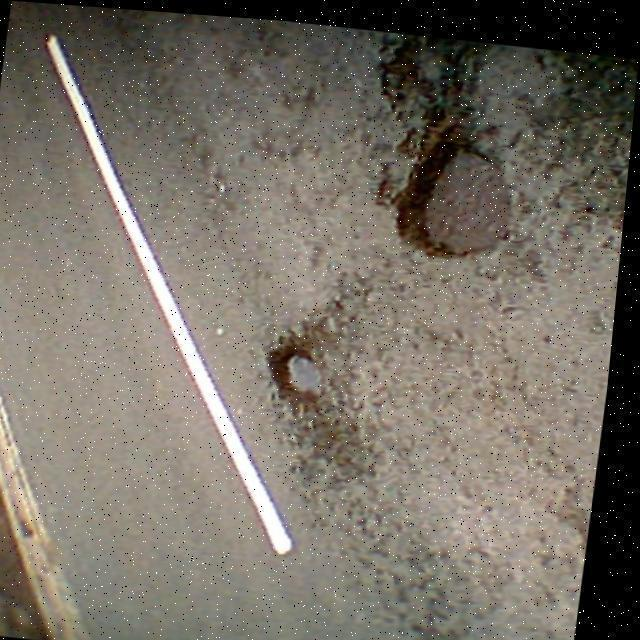Pothole: (391, 119, 510, 256), (265, 344, 326, 404)
